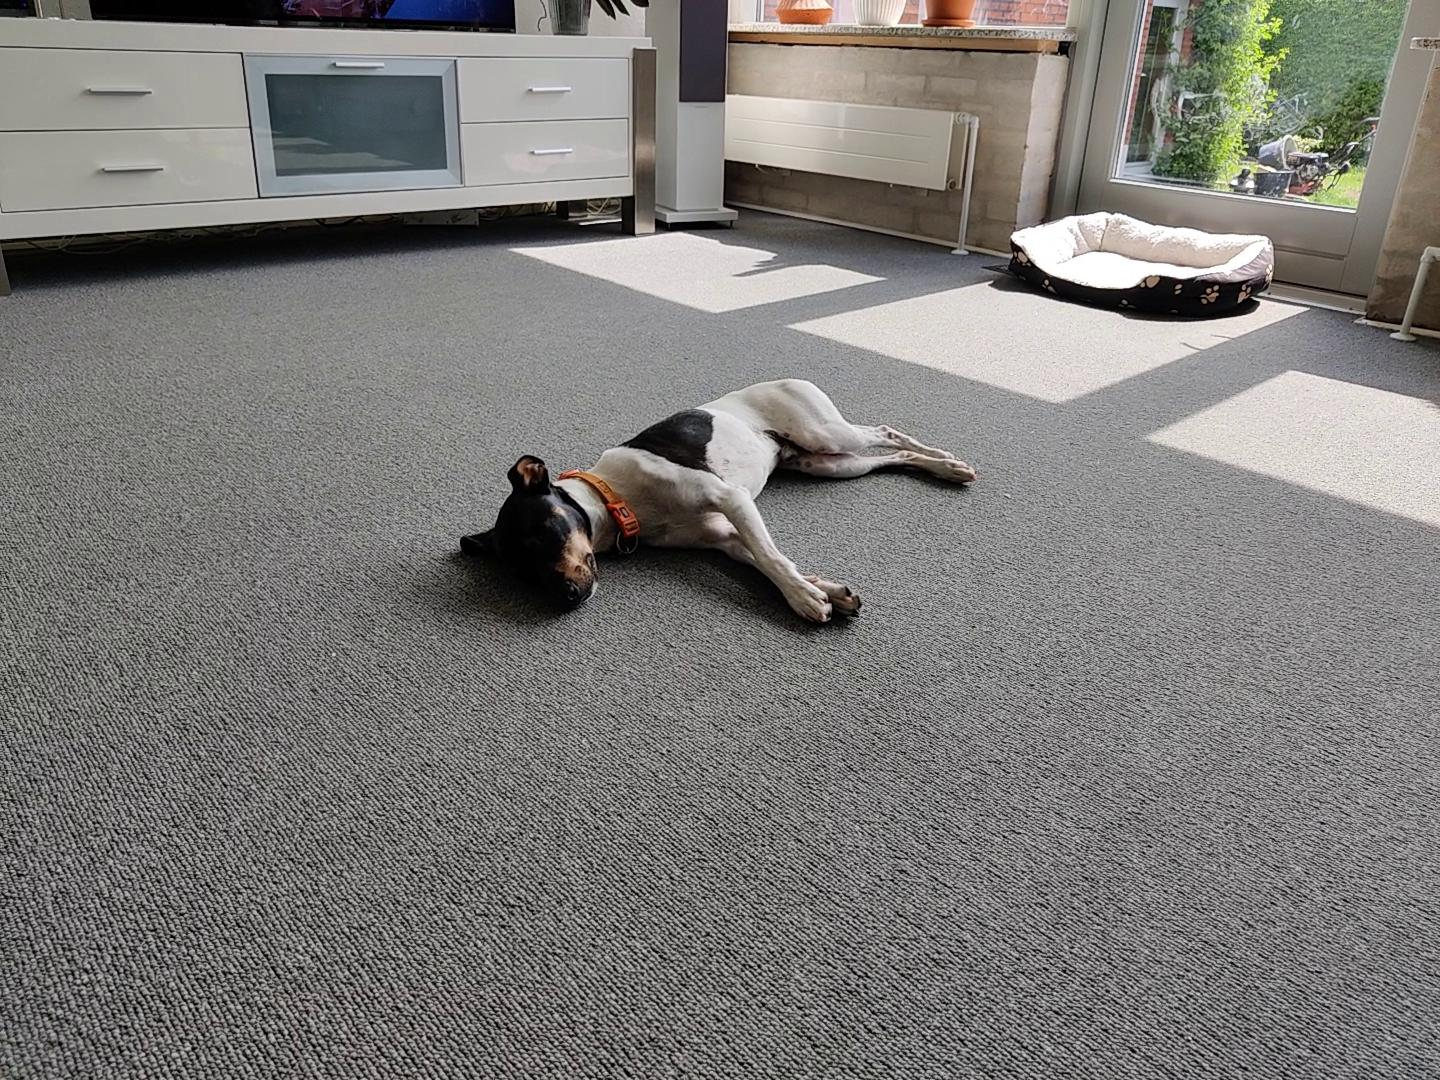Dog: (454, 374, 979, 632)
